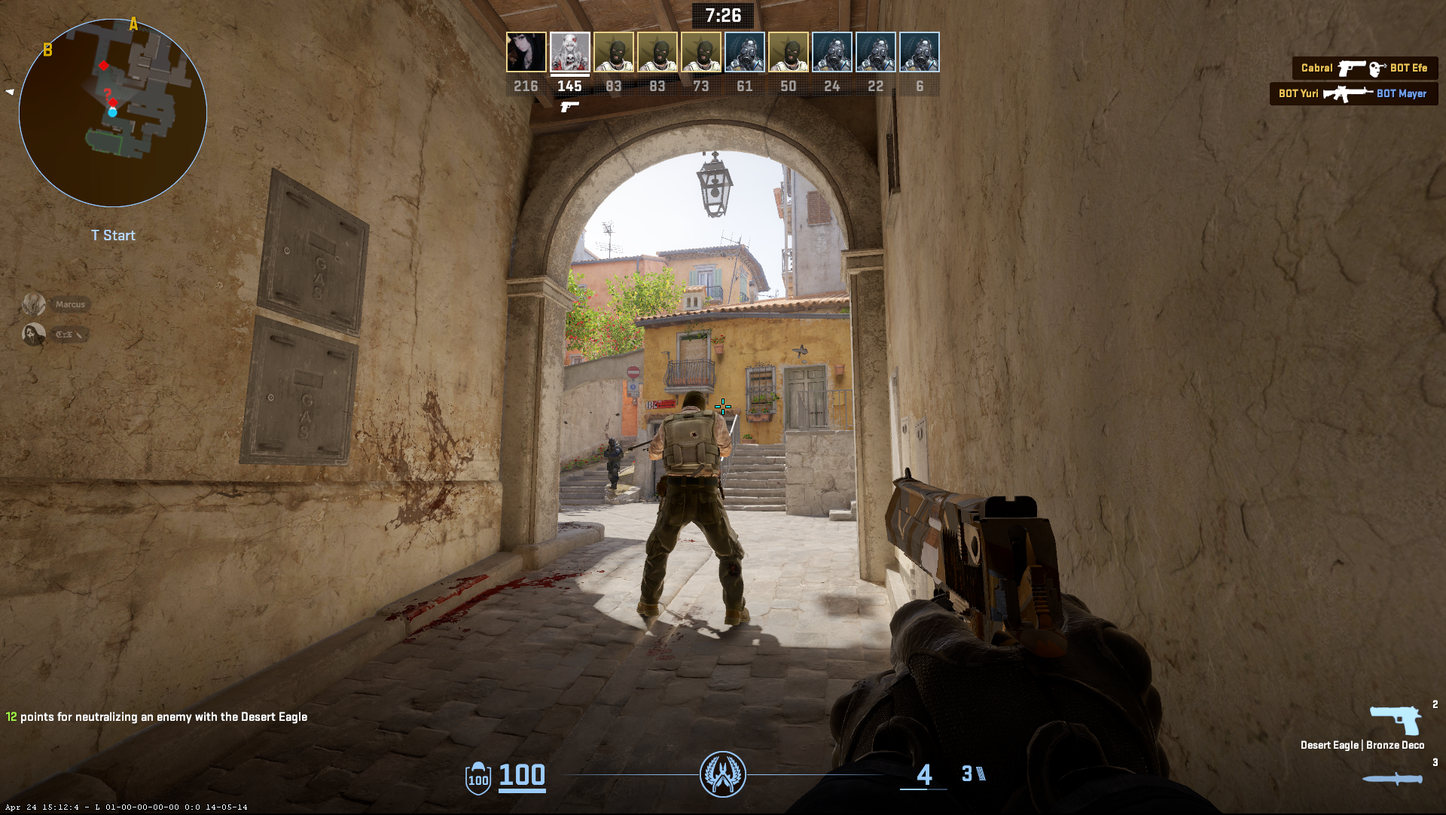CT: (604, 437, 624, 490)
T: (639, 391, 751, 628)
